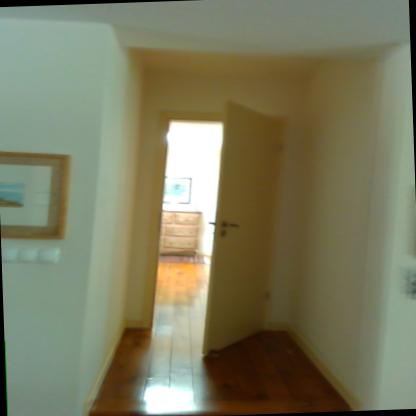semi: (115, 86, 298, 388)
